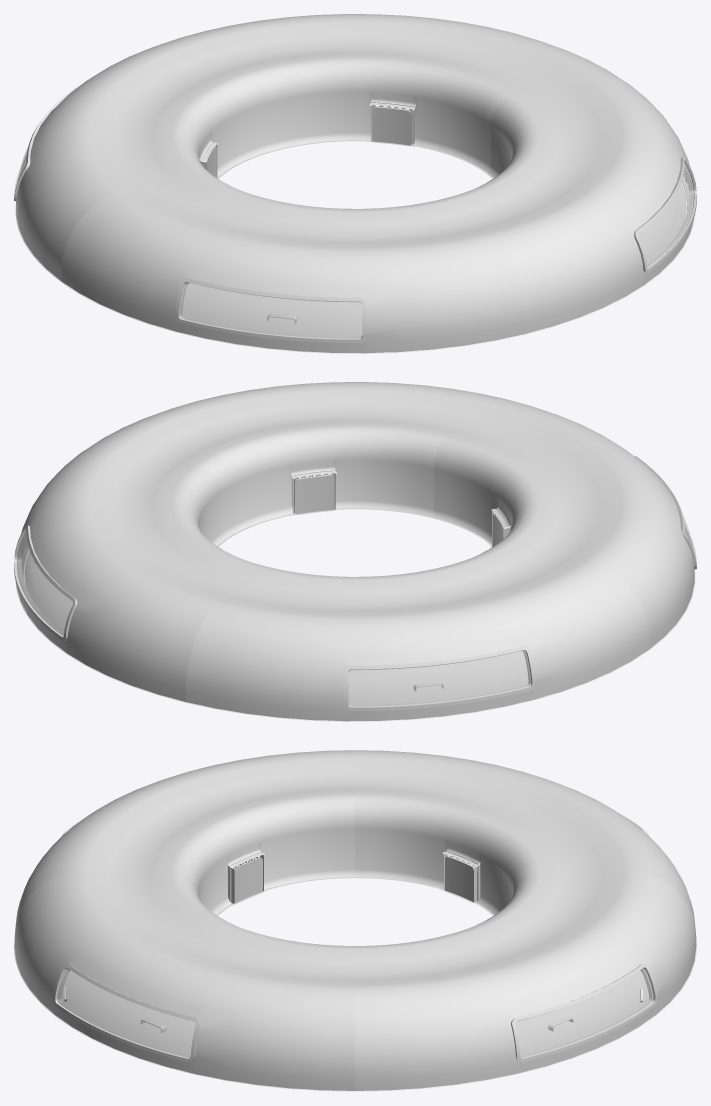
The model's file is vr_metaverse_spaceship_interior_05.glb.
The picture shows the model from 3 angles, top to bottom: view 1: azimuth 30°, elevation 25°; view 2: azimuth 150°, elevation 25°; view 3: azimuth 270°, elevation 25°; orthographic projection.
Visible parts, largest first — view 1: Base.001, Base, Base.003, Base.002, Window.001, Window; view 2: Base.002, Base.003, Base, Base.001, Window.002, Window.003; view 3: Base, Base.003, Base.001, Base.002, Window, Window.003.
Boxes of the visible parts, bbox=[...] form: Base.001: bbox=[61, 172, 524, 353]; Base: bbox=[442, 75, 696, 334]; Base.003: bbox=[206, 14, 622, 172]; Base.002: bbox=[14, 31, 280, 281]; Window.001: bbox=[180, 282, 362, 338]; Window: bbox=[638, 164, 693, 267]; Base.002: bbox=[186, 540, 649, 721]; Base.003: bbox=[14, 443, 268, 702]; Base: bbox=[88, 382, 504, 540]; Base.001: bbox=[430, 399, 696, 649]; Window.002: bbox=[348, 650, 530, 706]; Window.003: bbox=[17, 532, 72, 635]; Base: bbox=[14, 871, 355, 1091]; Base.003: bbox=[355, 871, 696, 1091]; Base.001: bbox=[14, 750, 355, 947]; Base.002: bbox=[355, 750, 696, 947]; Window: bbox=[57, 968, 195, 1057]; Window.003: bbox=[515, 968, 653, 1057].
Size of what is drawn, in the model's own units: 65.14 by 7.99 by 65.14.
Materials: 2 (1 with a texture image).
